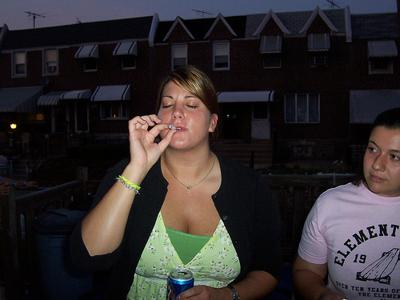person: (67, 63, 285, 299)
